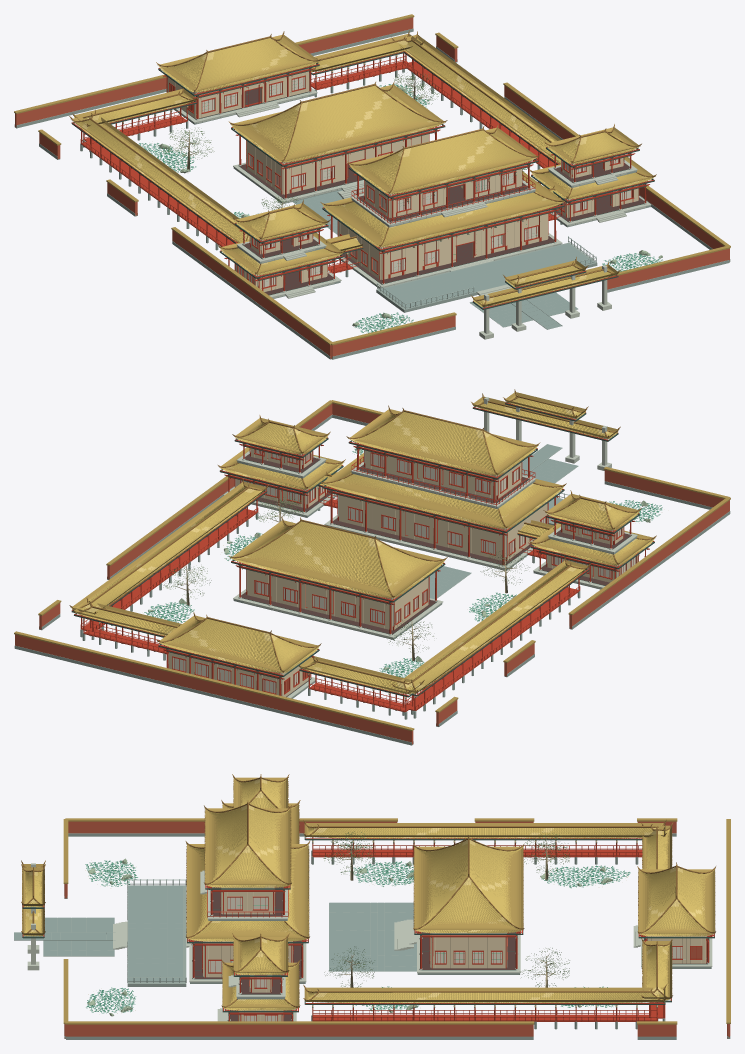
The model's file is daguanlou.glb.
3 views of the same model, one above another, from view 1: azimuth 30°, elevation 25°; view 2: azimuth 150°, elevation 25°; view 3: azimuth 270°, elevation 25° (orthographic). The views are drawn at different scales.
Visible parts, largest first — view 1: r15_daguanlou_Sunwen_r18_ceremonial_goldtile.001, r15_daguanlou_Sunwen_r18_ceremonial_goldroof.001, r15_daguanlou_Sunwen_r18_ceremonial_wood.001, r15_daguanlou_Sunwen_r18_ceremonial_plaster.002, r15_daguanlou_Sunwen_r18_vermillion-wall_plaster.001, r15_daguanlou_Sunwen_r18_ceremonial_cutstone.001, Mobile_daguanlou_paving, r15_daguanlou_Sunwen_r18_ceremonial_stone.001, r15_daguanlou_Sunwen_r18_ceremonial_darkwood.001, r15_daguanlou_Sunwen_r18_ceremonial_goldtiledark.001, Mobile_daguanlou_floorwood, r15_daguanlou_Sunwen_r18_ceremonial_screen.002 (+3 smaller); view 2: r15_daguanlou_Sunwen_r18_ceremonial_goldtile.001, r15_daguanlou_Sunwen_r18_ceremonial_goldroof.001, r15_daguanlou_Sunwen_r18_ceremonial_wood.001, r15_daguanlou_Sunwen_r18_ceremonial_plaster.002, r15_daguanlou_Sunwen_r18_vermillion-wall_plaster.001, r15_daguanlou_Sunwen_r18_ceremonial_darkwood.001, r15_daguanlou_Sunwen_r18_ceremonial_goldtiledark.001, r15_daguanlou_Sunwen_r18_ceremonial_stone.001, r15_daguanlou_Sunwen_r18_ceremonial_cutstone.001, Mobile_daguanlou_floorwood, r15_daguanlou_Sunwen_r18_ceremonial_screen.001, r15_daguanlou_Sunwen_r18_ceremonial_goldtilelight.001 (+4 smaller); view 3: r15_daguanlou_Sunwen_r18_ceremonial_goldtile.001, r15_daguanlou_Sunwen_r18_ceremonial_goldroof.001, Mobile_daguanlou_paving, r15_daguanlou_Sunwen_r18_ceremonial_wood.001, r15_daguanlou_Sunwen_r18_vermillion-wall_plaster.001, r15_daguanlou_Sunwen_r18_ceremonial_goldtiledark.001, r15_daguanlou_Sunwen_r18_ceremonial_stone.001, r15_daguanlou_Sunwen_r18_ceremonial_plaster.002, r15_daguanlou_Sunwen_r18_ceremonial_cutstone.001, Mobile_daguanlou_botanical_bamboo, r15_daguanlou_Sunwen_r18_ceremonial_darkwood.001, Mobile_daguanlou_floorwood (+5 smaller).
Boxes of the visible parts, x1,y1,x2,y2 form: r15_daguanlou_Sunwen_r18_ceremonial_goldtile.001: [73, 35, 653, 307]; r15_daguanlou_Sunwen_r18_ceremonial_goldroof.001: [14, 14, 730, 345]; r15_daguanlou_Sunwen_r18_ceremonial_wood.001: [71, 51, 654, 308]; r15_daguanlou_Sunwen_r18_ceremonial_plaster.002: [167, 68, 638, 291]; r15_daguanlou_Sunwen_r18_vermillion-wall_plaster.001: [15, 17, 729, 358]; r15_daguanlou_Sunwen_r18_ceremonial_cutstone.001: [175, 88, 651, 339]; Mobile_daguanlou_paving: [293, 190, 596, 329]; r15_daguanlou_Sunwen_r18_ceremonial_stone.001: [14, 28, 730, 359]; r15_daguanlou_Sunwen_r18_ceremonial_darkwood.001: [71, 52, 654, 309]; r15_daguanlou_Sunwen_r18_ceremonial_goldtiledark.001: [69, 30, 656, 306]; Mobile_daguanlou_floorwood: [181, 88, 644, 295]; r15_daguanlou_Sunwen_r18_ceremonial_screen.002: [202, 77, 631, 287]; r15_daguanlou_Sunwen_r18_ceremonial_goldtile.001: [72, 396, 654, 694]; r15_daguanlou_Sunwen_r18_ceremonial_goldroof.001: [14, 392, 730, 731]; r15_daguanlou_Sunwen_r18_ceremonial_wood.001: [71, 402, 654, 712]; r15_daguanlou_Sunwen_r18_ceremonial_plaster.002: [168, 445, 638, 696]; r15_daguanlou_Sunwen_r18_vermillion-wall_plaster.001: [15, 403, 729, 744]; r15_daguanlou_Sunwen_r18_ceremonial_darkwood.001: [71, 402, 654, 698]; r15_daguanlou_Sunwen_r18_ceremonial_goldtiledark.001: [69, 389, 656, 693]; r15_daguanlou_Sunwen_r18_ceremonial_stone.001: [14, 414, 730, 745]; r15_daguanlou_Sunwen_r18_ceremonial_cutstone.001: [223, 397, 637, 698]; Mobile_daguanlou_floorwood: [241, 453, 631, 696]; r15_daguanlou_Sunwen_r18_ceremonial_screen.001: [235, 447, 618, 626]; r15_daguanlou_Sunwen_r18_ceremonial_goldtilelight.001: [84, 406, 636, 688]; r15_daguanlou_Sunwen_r18_ceremonial_goldtile.001: [23, 779, 713, 1010]; r15_daguanlou_Sunwen_r18_ceremonial_goldroof.001: [22, 777, 730, 1024]; Mobile_daguanlou_paving: [14, 879, 416, 982]; r15_daguanlou_Sunwen_r18_ceremonial_wood.001: [22, 837, 714, 1021]; r15_daguanlou_Sunwen_r18_vermillion-wall_plaster.001: [64, 821, 730, 1038]; r15_daguanlou_Sunwen_r18_ceremonial_goldtiledark.001: [21, 774, 715, 1007]; r15_daguanlou_Sunwen_r18_ceremonial_stone.001: [14, 833, 730, 1039]; r15_daguanlou_Sunwen_r18_ceremonial_plaster.002: [203, 885, 706, 1021]; r15_daguanlou_Sunwen_r18_ceremonial_cutstone.001: [27, 863, 712, 1021]; Mobile_daguanlou_botanical_bamboo: [85, 860, 630, 1013]; r15_daguanlou_Sunwen_r18_ceremonial_darkwood.001: [22, 837, 714, 1015]; Mobile_daguanlou_floorwood: [194, 886, 707, 1021].
Size of the model in its own units: 74.95 by 20.84 by 110.
